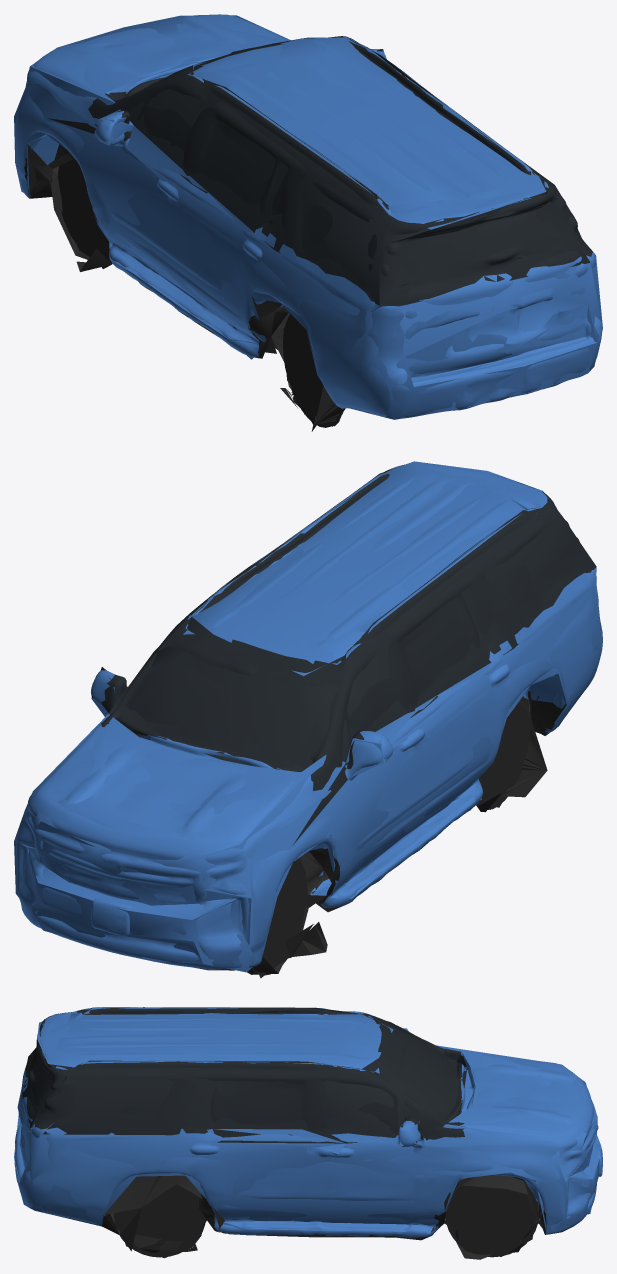
Rendered from chevrolet-tahoe.glb.
3 renders of one model, top to bottom at view 1: azimuth 30°, elevation 25°; view 2: azimuth 150°, elevation 25°; view 3: azimuth 270°, elevation 25°, orthographic. The views are drawn at different scales.
Parts seen in each view (by area): view 1: body, far; view 2: body, far; view 3: body, far.
Boxes of the visible parts, x1,y1,x2,y2 form: body: (15,14,602,430); far: (14,15,602,431); body: (16,463,602,975); far: (14,461,602,978); body: (14,1007,602,1259); far: (14,1007,601,1258).
Size of the model in its own units: 2.31 by 1.96 by 5.43.
